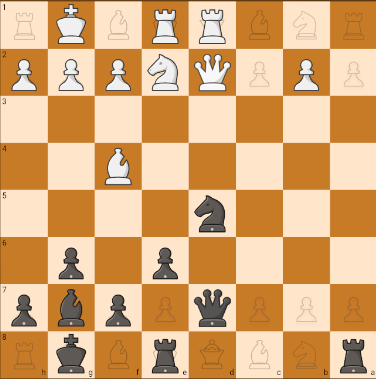bb: (191, 195, 236, 237), (52, 287, 92, 329)
bk: (52, 330, 93, 374)
bp: (146, 243, 183, 283), (4, 293, 44, 328), (54, 243, 88, 282), (105, 292, 135, 329), (146, 262, 148, 265)
bq: (194, 287, 233, 330)
br: (333, 336, 372, 377), (148, 337, 184, 374)
wb: (97, 144, 138, 188)
wk: (52, 3, 91, 44)
wn: (145, 53, 183, 94)
wp: (2, 52, 43, 94), (287, 50, 325, 95), (52, 52, 91, 95), (98, 54, 136, 93)
wq: (190, 49, 233, 96)
wr: (196, 3, 230, 48), (147, 7, 182, 44)
